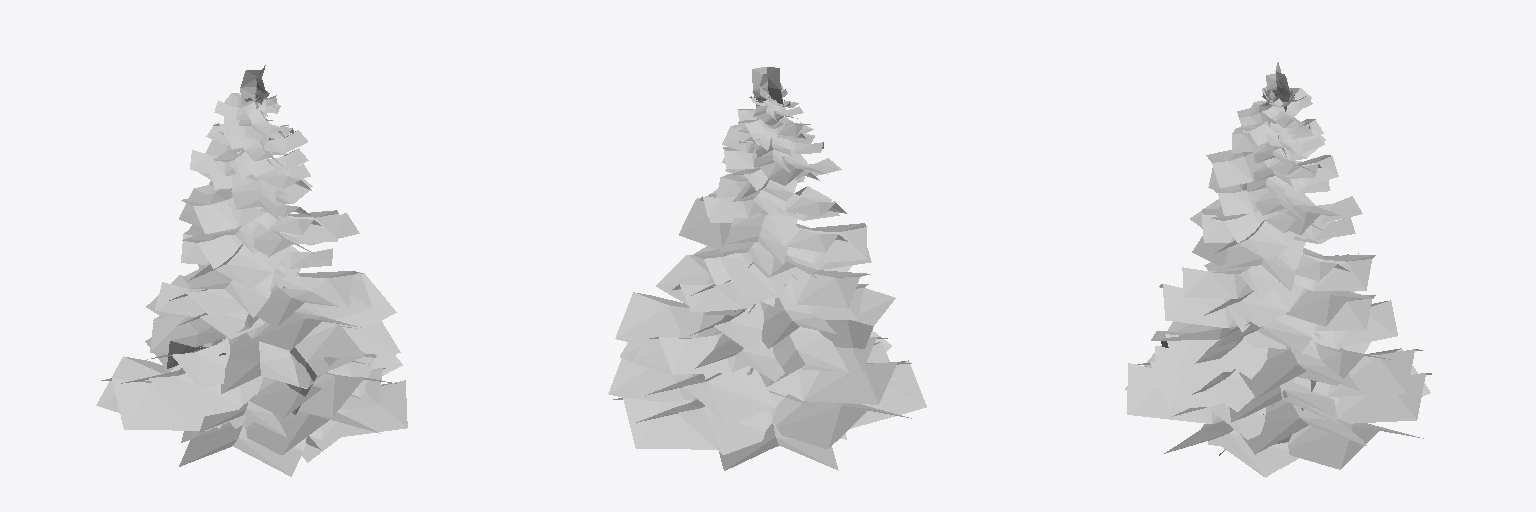
The model's file is Pine.obj.
3 views of the same model, side by side, from view 1: azimuth 30°, elevation 25°; view 2: azimuth 150°, elevation 25°; view 3: azimuth 270°, elevation 25° (orthographic).
Visible parts, largest first — view 1: pine4m; view 2: pine4m; view 3: pine4m.
Part boxes in pixels (left/top/right/bottom): pine4m: left=96, top=65, right=407, bottom=476; pine4m: left=608, top=67, right=926, bottom=470; pine4m: left=1125, top=62, right=1431, bottom=477.
Size of the model in its own units: 340 by 442 by 329.